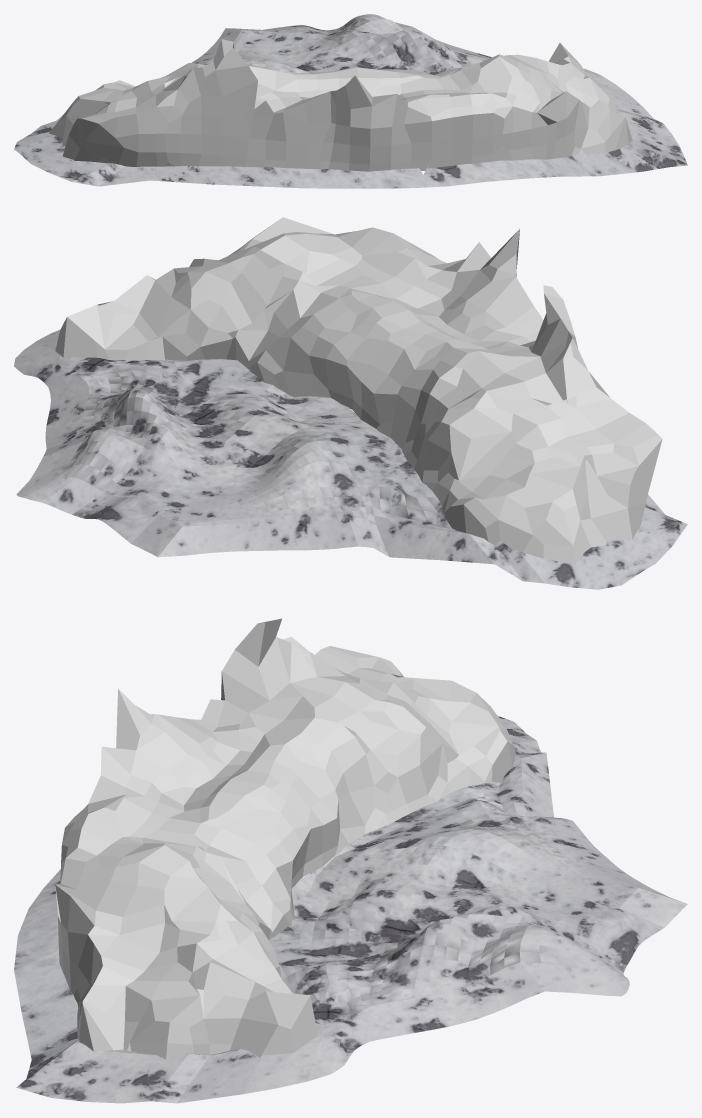
Rendered from Needs texturing_Ice (Final)_V2.fbx.
3 views of the same model, one above another, from view 1: azimuth 30°, elevation 25°; view 2: azimuth 150°, elevation 25°; view 3: azimuth 270°, elevation 25° (orthographic). The views are drawn at different scales.
Visible parts, largest first — view 1: AMS_Act1_Scene_1:ice_age_terrain:Ice shelf, AMS_Act1_Scene_1:ice_age_terrain:Ice shelf.001; view 2: AMS_Act1_Scene_1:ice_age_terrain:Ice shelf, AMS_Act1_Scene_1:ice_age_terrain:Ice shelf.001; view 3: AMS_Act1_Scene_1:ice_age_terrain:Ice shelf, AMS_Act1_Scene_1:ice_age_terrain:Ice shelf.001.
Part boxes in pixels (<box>): AMS_Act1_Scene_1:ice_age_terrain:Ice shelf: <box>49,39,632,171</box>; AMS_Act1_Scene_1:ice_age_terrain:Ice shelf.001: <box>14,14,687,188</box>; AMS_Act1_Scene_1:ice_age_terrain:Ice shelf: <box>55,217,662,564</box>; AMS_Act1_Scene_1:ice_age_terrain:Ice shelf.001: <box>14,329,687,589</box>; AMS_Act1_Scene_1:ice_age_terrain:Ice shelf: <box>55,618,516,1059</box>; AMS_Act1_Scene_1:ice_age_terrain:Ice shelf.001: <box>14,716,687,1103</box>.
Size of the model in its own units: 40.37 by 10.97 by 31.14.
